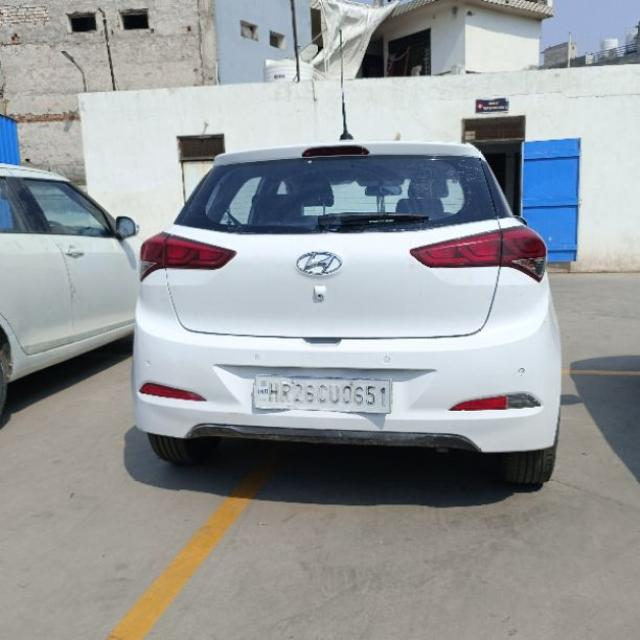license_plate: (251, 373, 392, 414)
